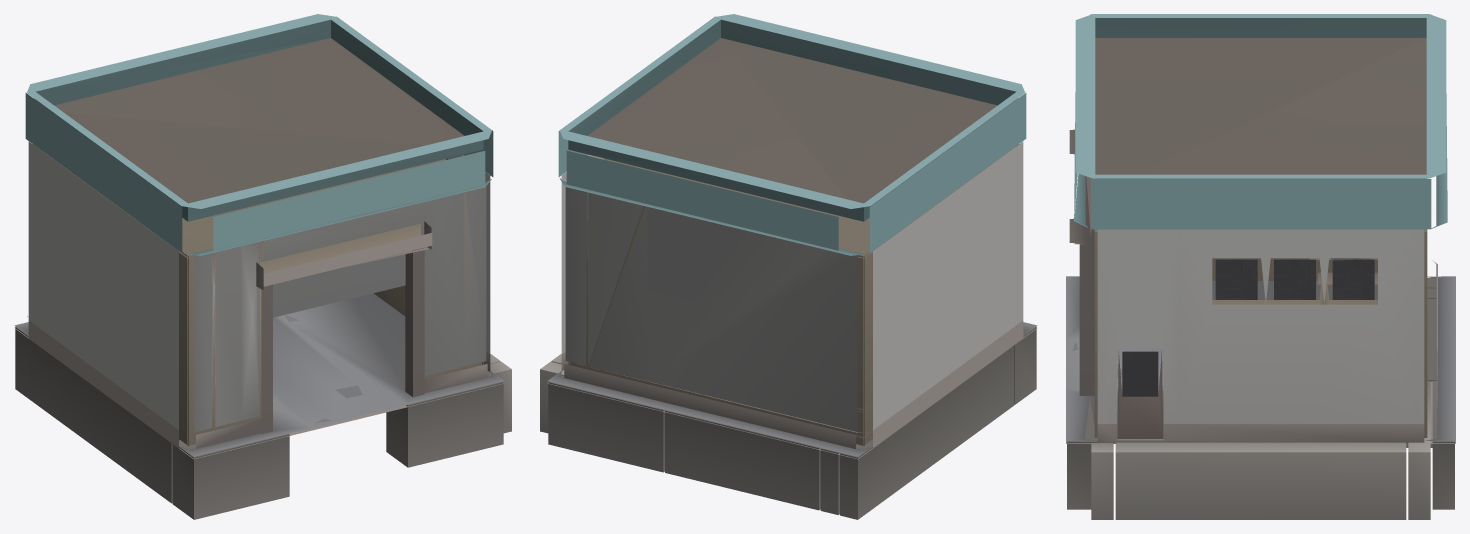
File: garage.lod.glb
3 views of the same model, side by side, from view 1: azimuth 30°, elevation 25°; view 2: azimuth 150°, elevation 25°; view 3: azimuth 270°, elevation 25° (orthographic). The views are drawn at different scales.
Parts seen in each view (by area): view 1: garage.001; view 2: garage.001; view 3: garage.001.
Part boxes in pixels (x1,y1,x2,y2): garage.001: [14, 14, 511, 519]; garage.001: [540, 14, 1037, 519]; garage.001: [1066, 14, 1455, 519].
Bounding box in the file's own units: 8.48 × 7.5 × 8.
